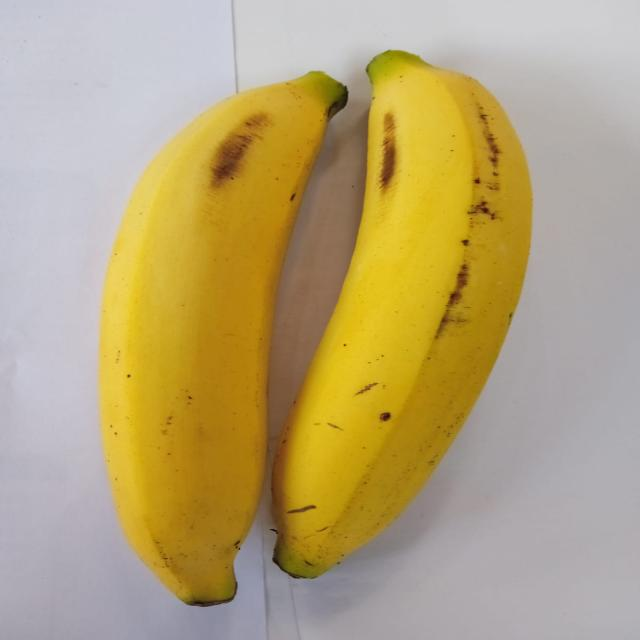banana: (273, 52, 531, 577), (100, 72, 346, 605)
